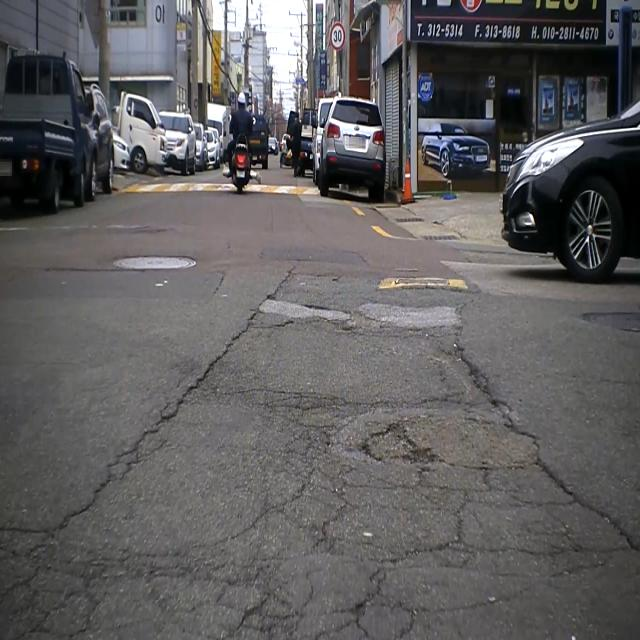Pothole: (452, 340, 514, 438), (354, 296, 464, 334), (258, 294, 355, 332), (363, 418, 432, 463)
